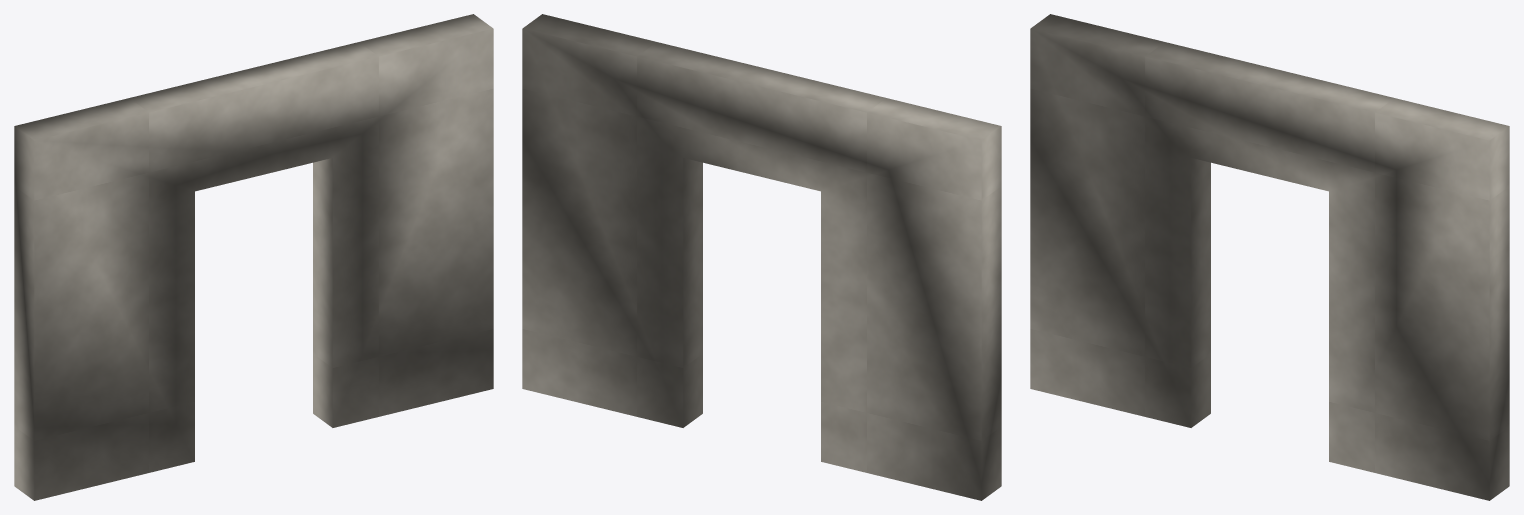
The model's file is wall_concrete_4m_doorway.glb.
3 views of the same model, side by side, from view 1: azimuth 30°, elevation 25°; view 2: azimuth 150°, elevation 25°; view 3: azimuth 330°, elevation 25° (orthographic).
Visible parts, largest first — view 1: wall_concrete_4m_doorway; view 2: wall_concrete_4m_doorway; view 3: wall_concrete_4m_doorway.
Boxes of the visible parts, <box> form: wall_concrete_4m_doorway: <box>14,14,493,500</box>; wall_concrete_4m_doorway: <box>522,14,1001,500</box>; wall_concrete_4m_doorway: <box>1030,14,1509,500</box>.
Bounding box in the file's own units: 4 × 3 × 0.3.
2 materials, 2 textured.
